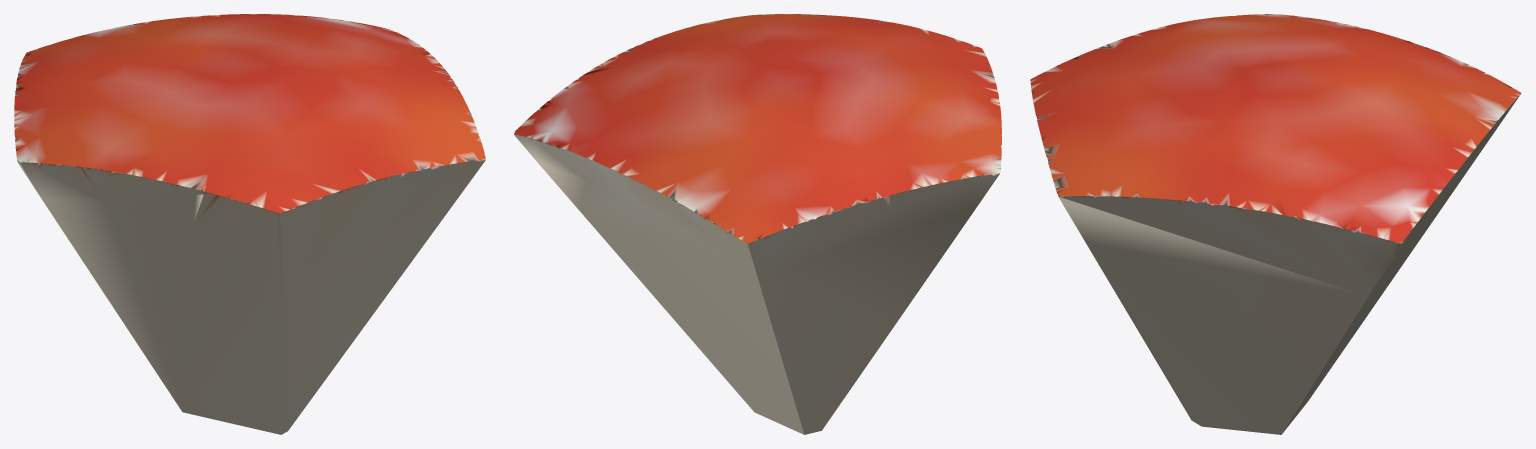
Rendered from amanita-scout-cap-top.glb.
3 renders of one model, left to right at view 1: azimuth 30°, elevation 25°; view 2: azimuth 150°, elevation 25°; view 3: azimuth 270°, elevation 25°, orthographic.
Visible parts, largest first — view 1: body; view 2: body; view 3: body.
Part boxes in pixels (bbox=[...]): body: bbox=[14, 14, 485, 434]; body: bbox=[514, 14, 1001, 434]; body: bbox=[1030, 14, 1521, 434].
Bounding box in the file's own units: 0.6435 × 0.4892 × 0.6346.
